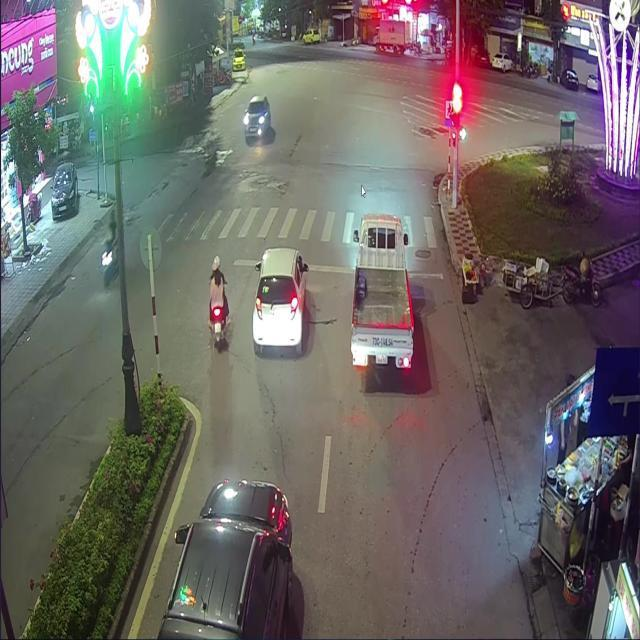car: (157, 480, 292, 639), (350, 213, 413, 368), (251, 246, 304, 354)
motobike: (212, 314, 227, 348)
red_light: (452, 97, 459, 127)
stop_line: (231, 258, 442, 280)
